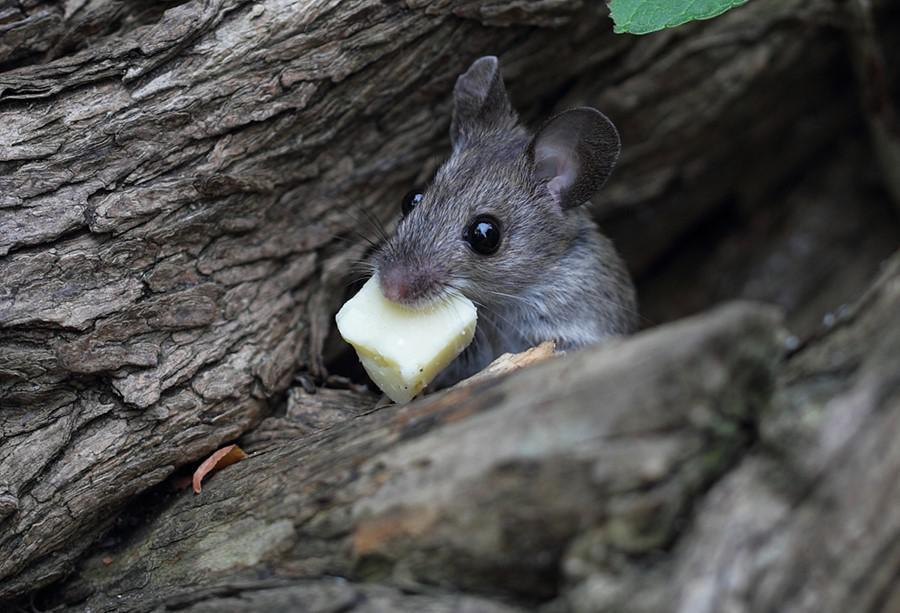rat: (376, 53, 638, 384)
